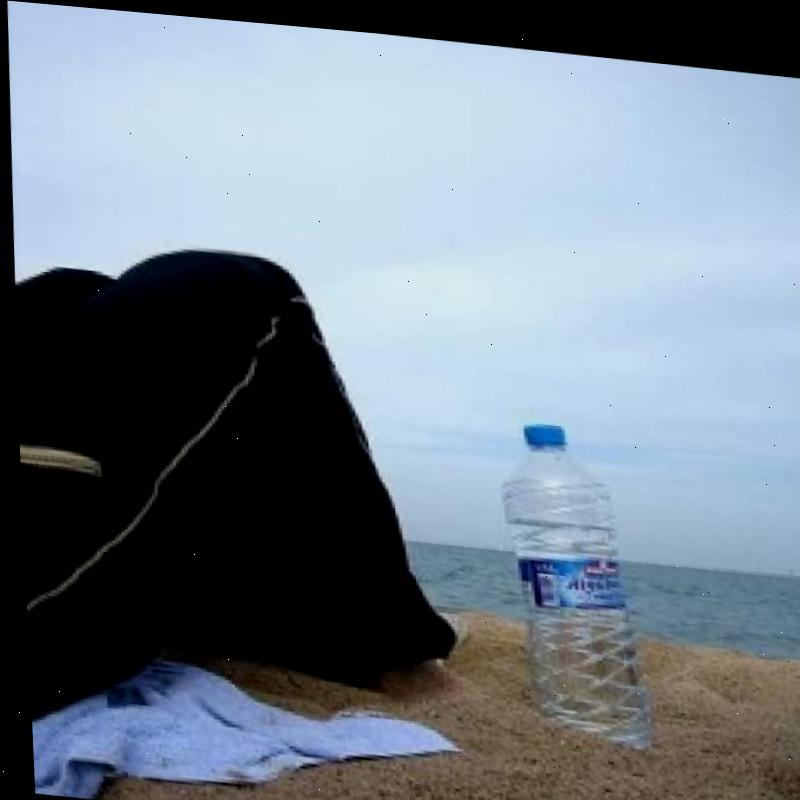botella: (487, 411, 651, 740)
